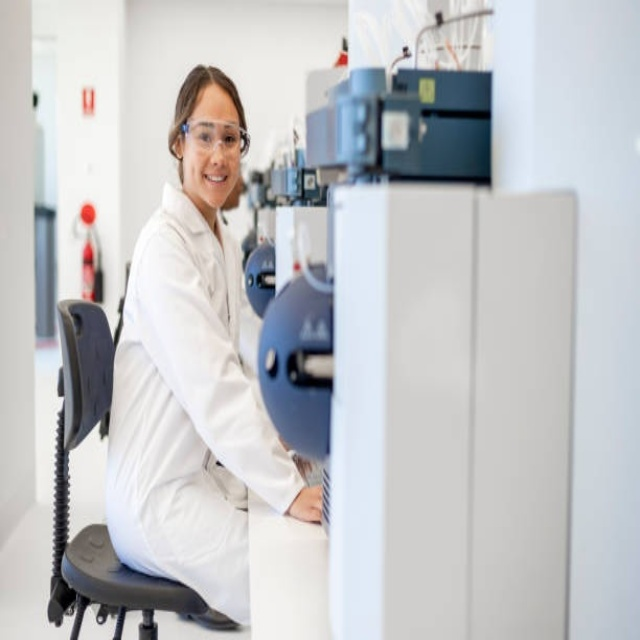Gafas: (181, 121, 250, 158)
Sin_guantes: (287, 483, 324, 524)
Sin_mascara: (199, 166, 234, 202)
